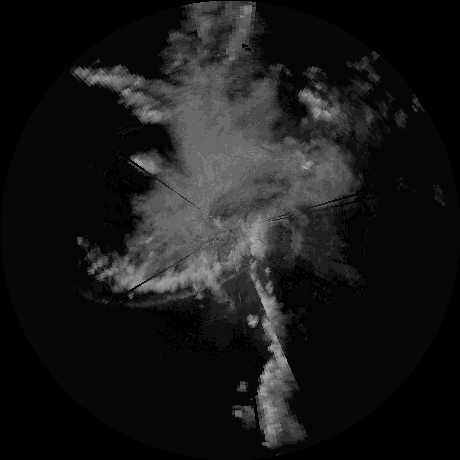frontgust: (81, 292, 197, 308), (217, 269, 248, 285)
